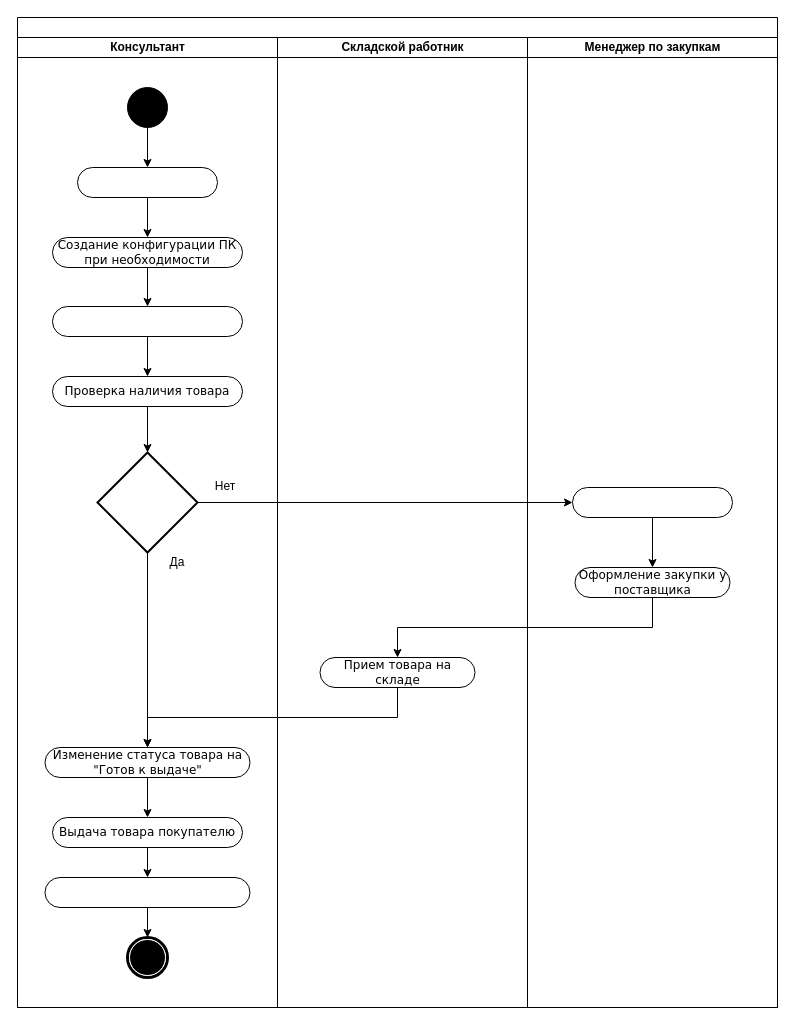
The diagram is 795 pixels wide and 1025 high, and some of its shapes have lost their labels. The shapes that lost their labels are listed below. From the top down, each one's centre as x and y in pixels, then its label:
(x=147, y=182): Консультирование покупателя
(x=147, y=321): Оформление заказа
(x=147, y=502): Товар в наличии?
(x=652, y=502): Выбор необходимых товаров для закупки
(x=147, y=892): Изменение статуса товара на "Получен"
